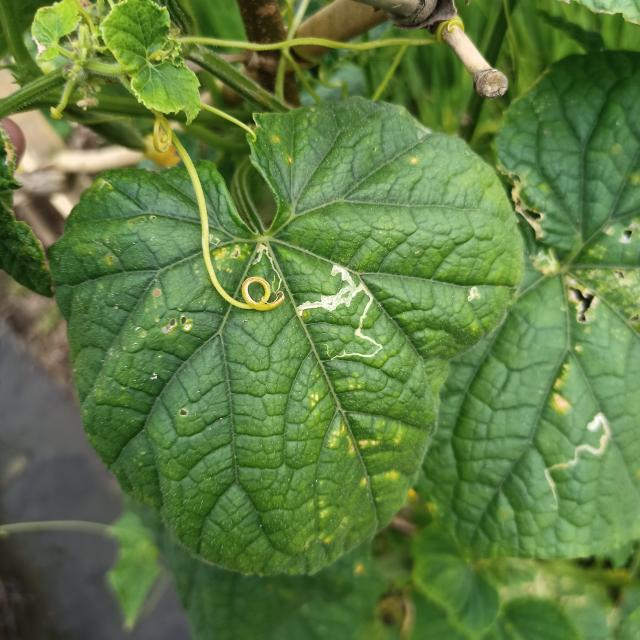disease_cucumber: (310, 392, 381, 459), (214, 245, 243, 272)
